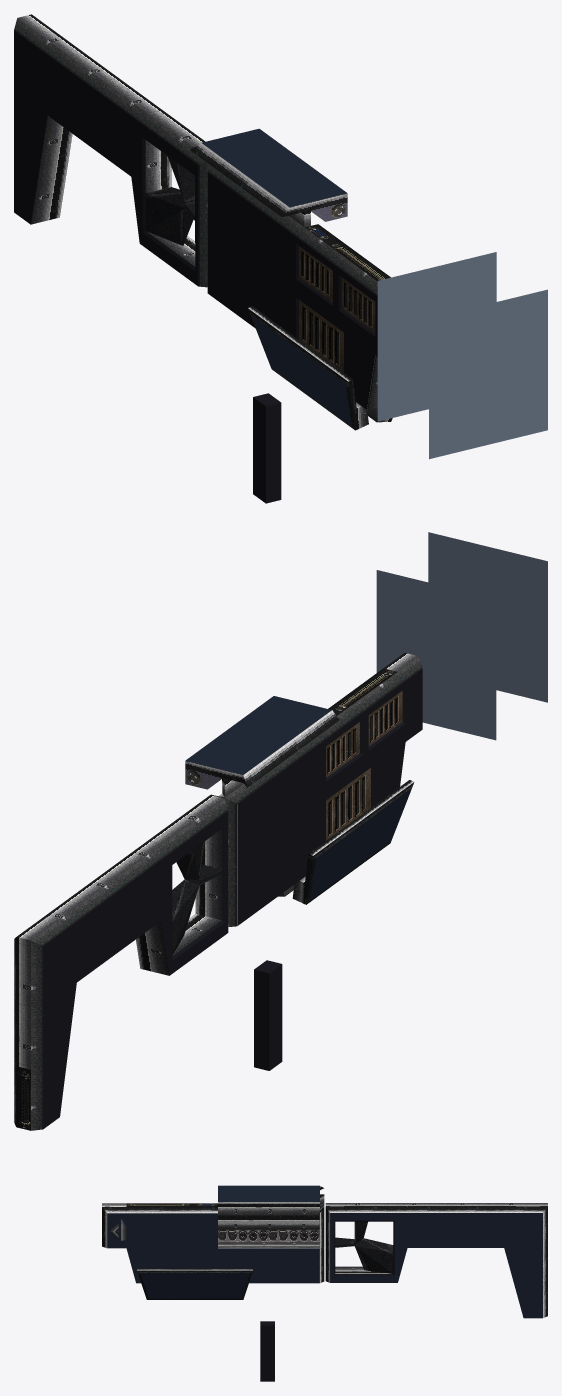
File: 0d-laptop-gun-fp.glb
The picture shows the model from 3 angles, top to bottom: view 1: azimuth 30°, elevation 25°; view 2: azimuth 150°, elevation 25°; view 3: azimuth 270°, elevation 25°; orthographic projection. The views are drawn at different scales.
Visible parts, largest first — view 1: gun; view 2: gun; view 3: gun.
Part boxes in pixels (x1=…): gun: x1=14, y1=14, x2=547, y2=503; gun: x1=14, y1=532, x2=547, y2=1130; gun: x1=102, y1=1185, x2=547, y2=1381.
Bounding box in the file's own units: 148 × 420 × 996.
13 materials, 13 textured.
